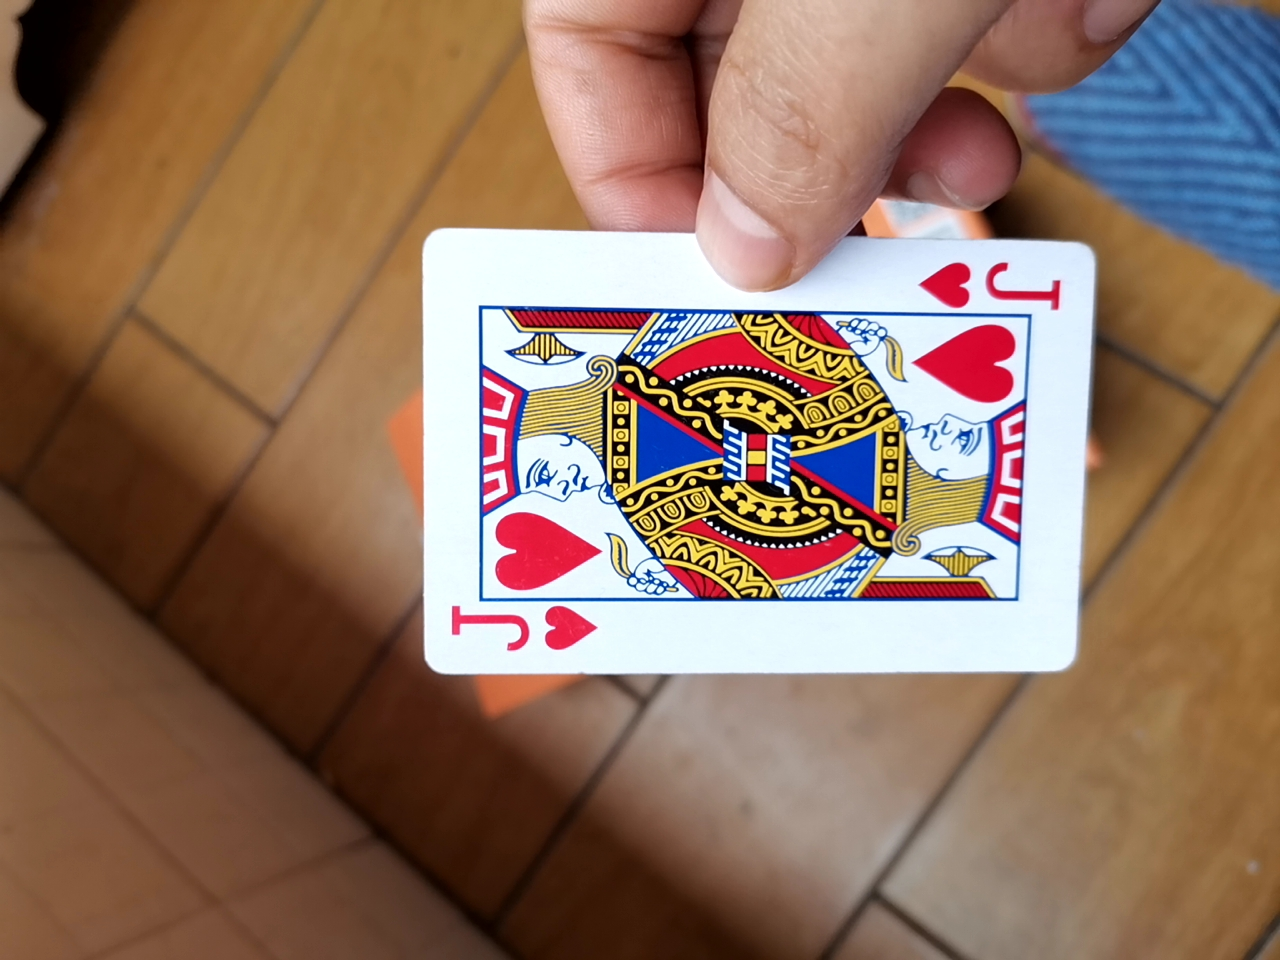hx j: (386, 223, 1094, 694)
